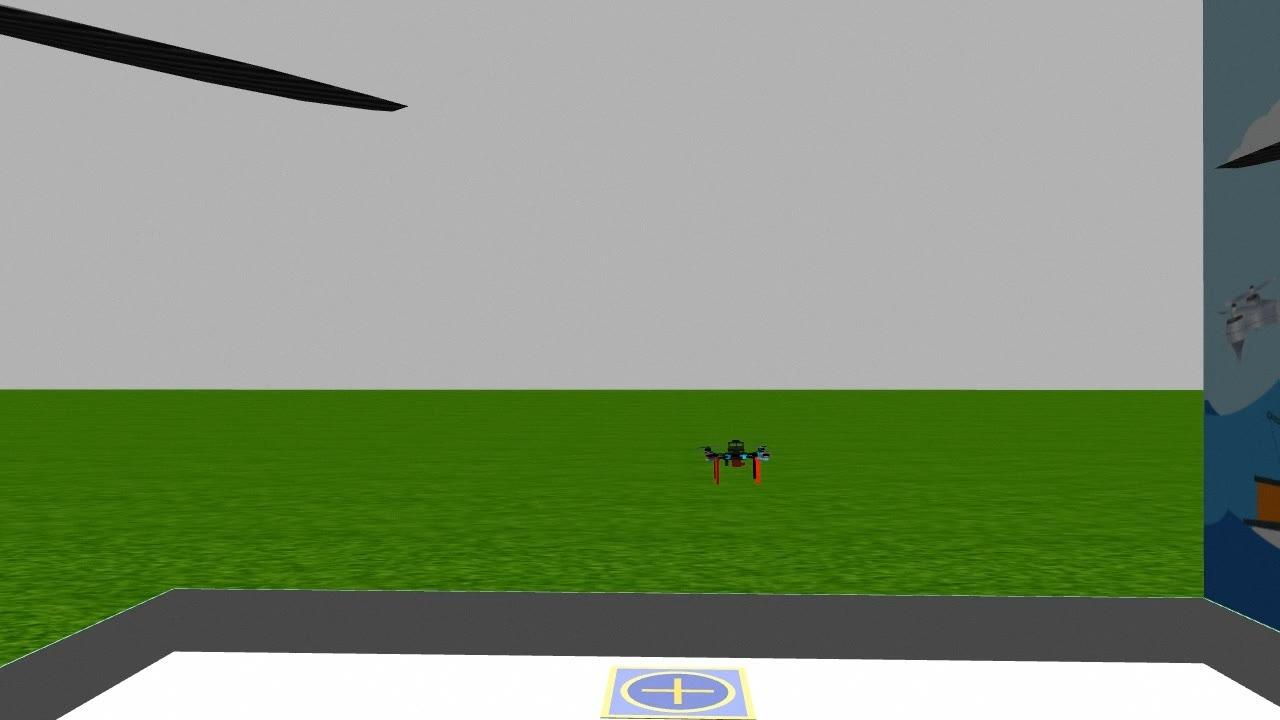UAV: (694, 431, 784, 491)
